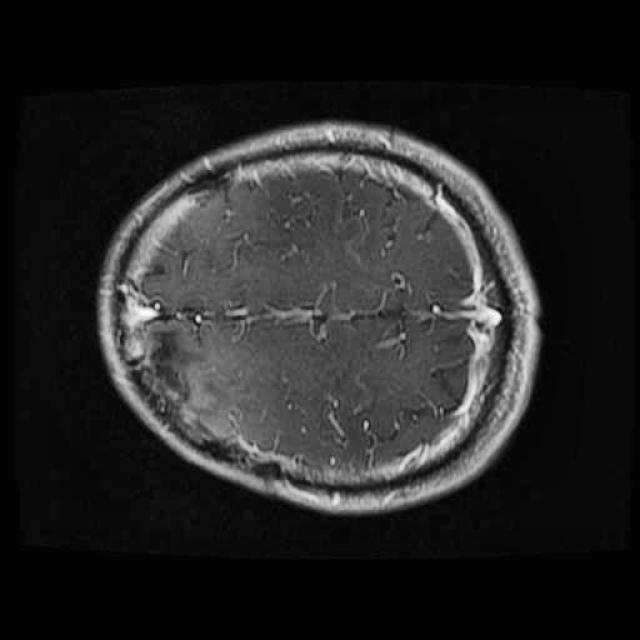Tumor: (115, 300, 244, 464)
